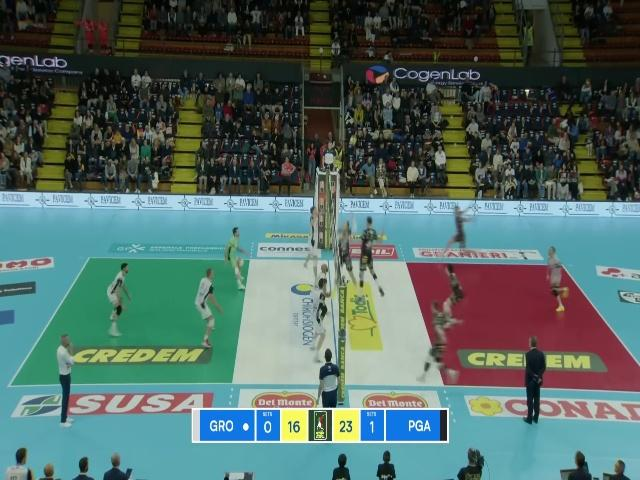volleyball court: (8, 260, 638, 391)
